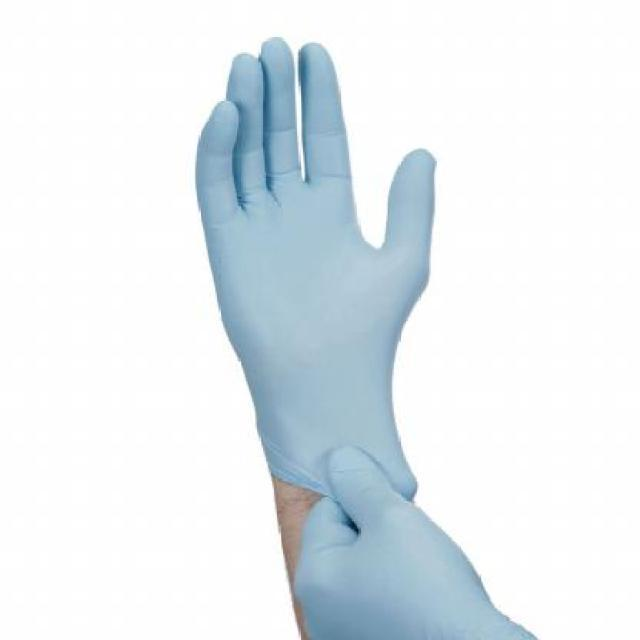glove_hand: (194, 38, 448, 502), (271, 448, 547, 638)
